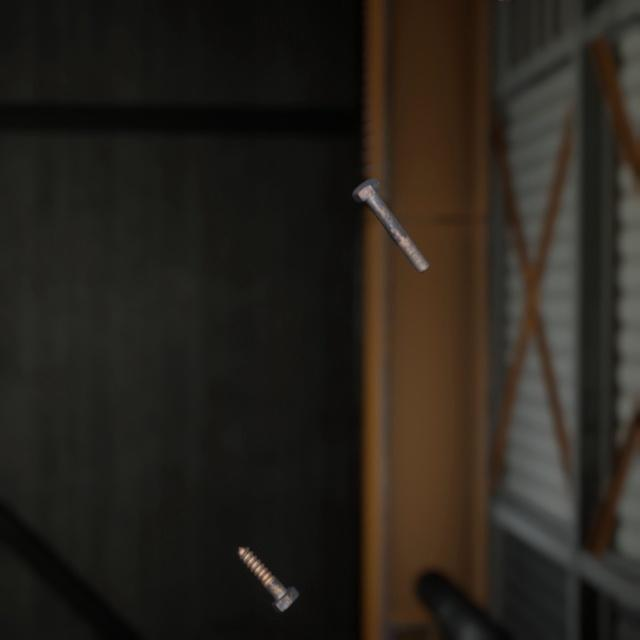bolt: (347, 158, 433, 263), (233, 519, 304, 593)
